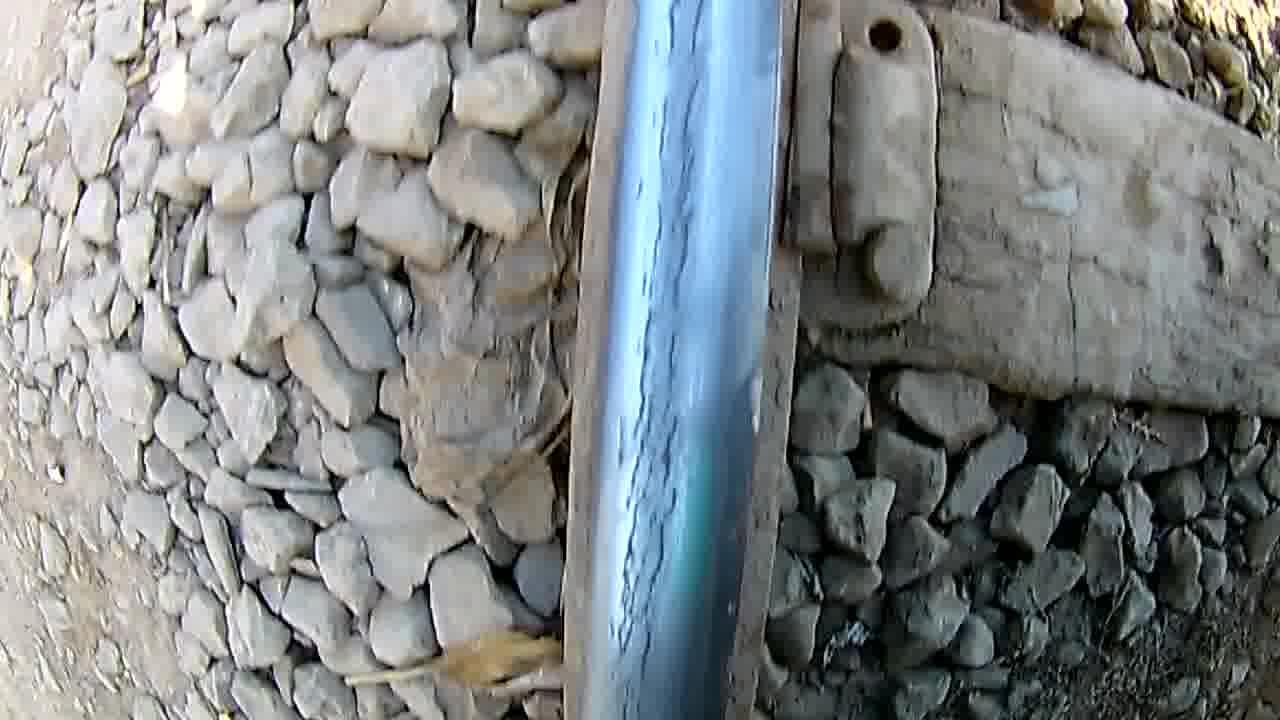normal_track: (611, 4, 706, 720)
